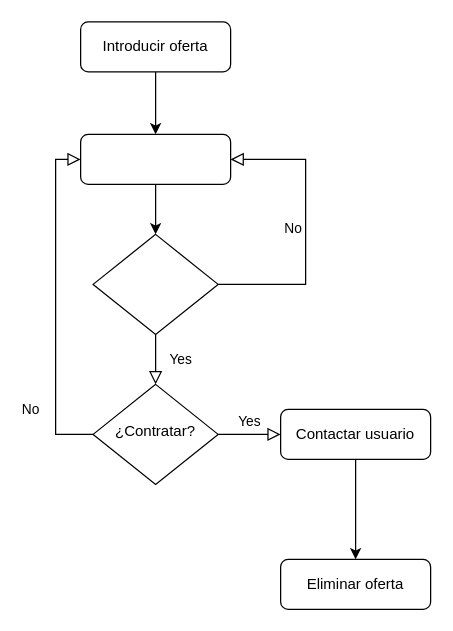
This 453x631 diagram has some shape labels left out. Here are the shapes that lost their labels. From the top down, the centre of each, then its label:
At point (155, 158): "Encuentro usuario".
At point (155, 283): "¿El usuario es valido?".
